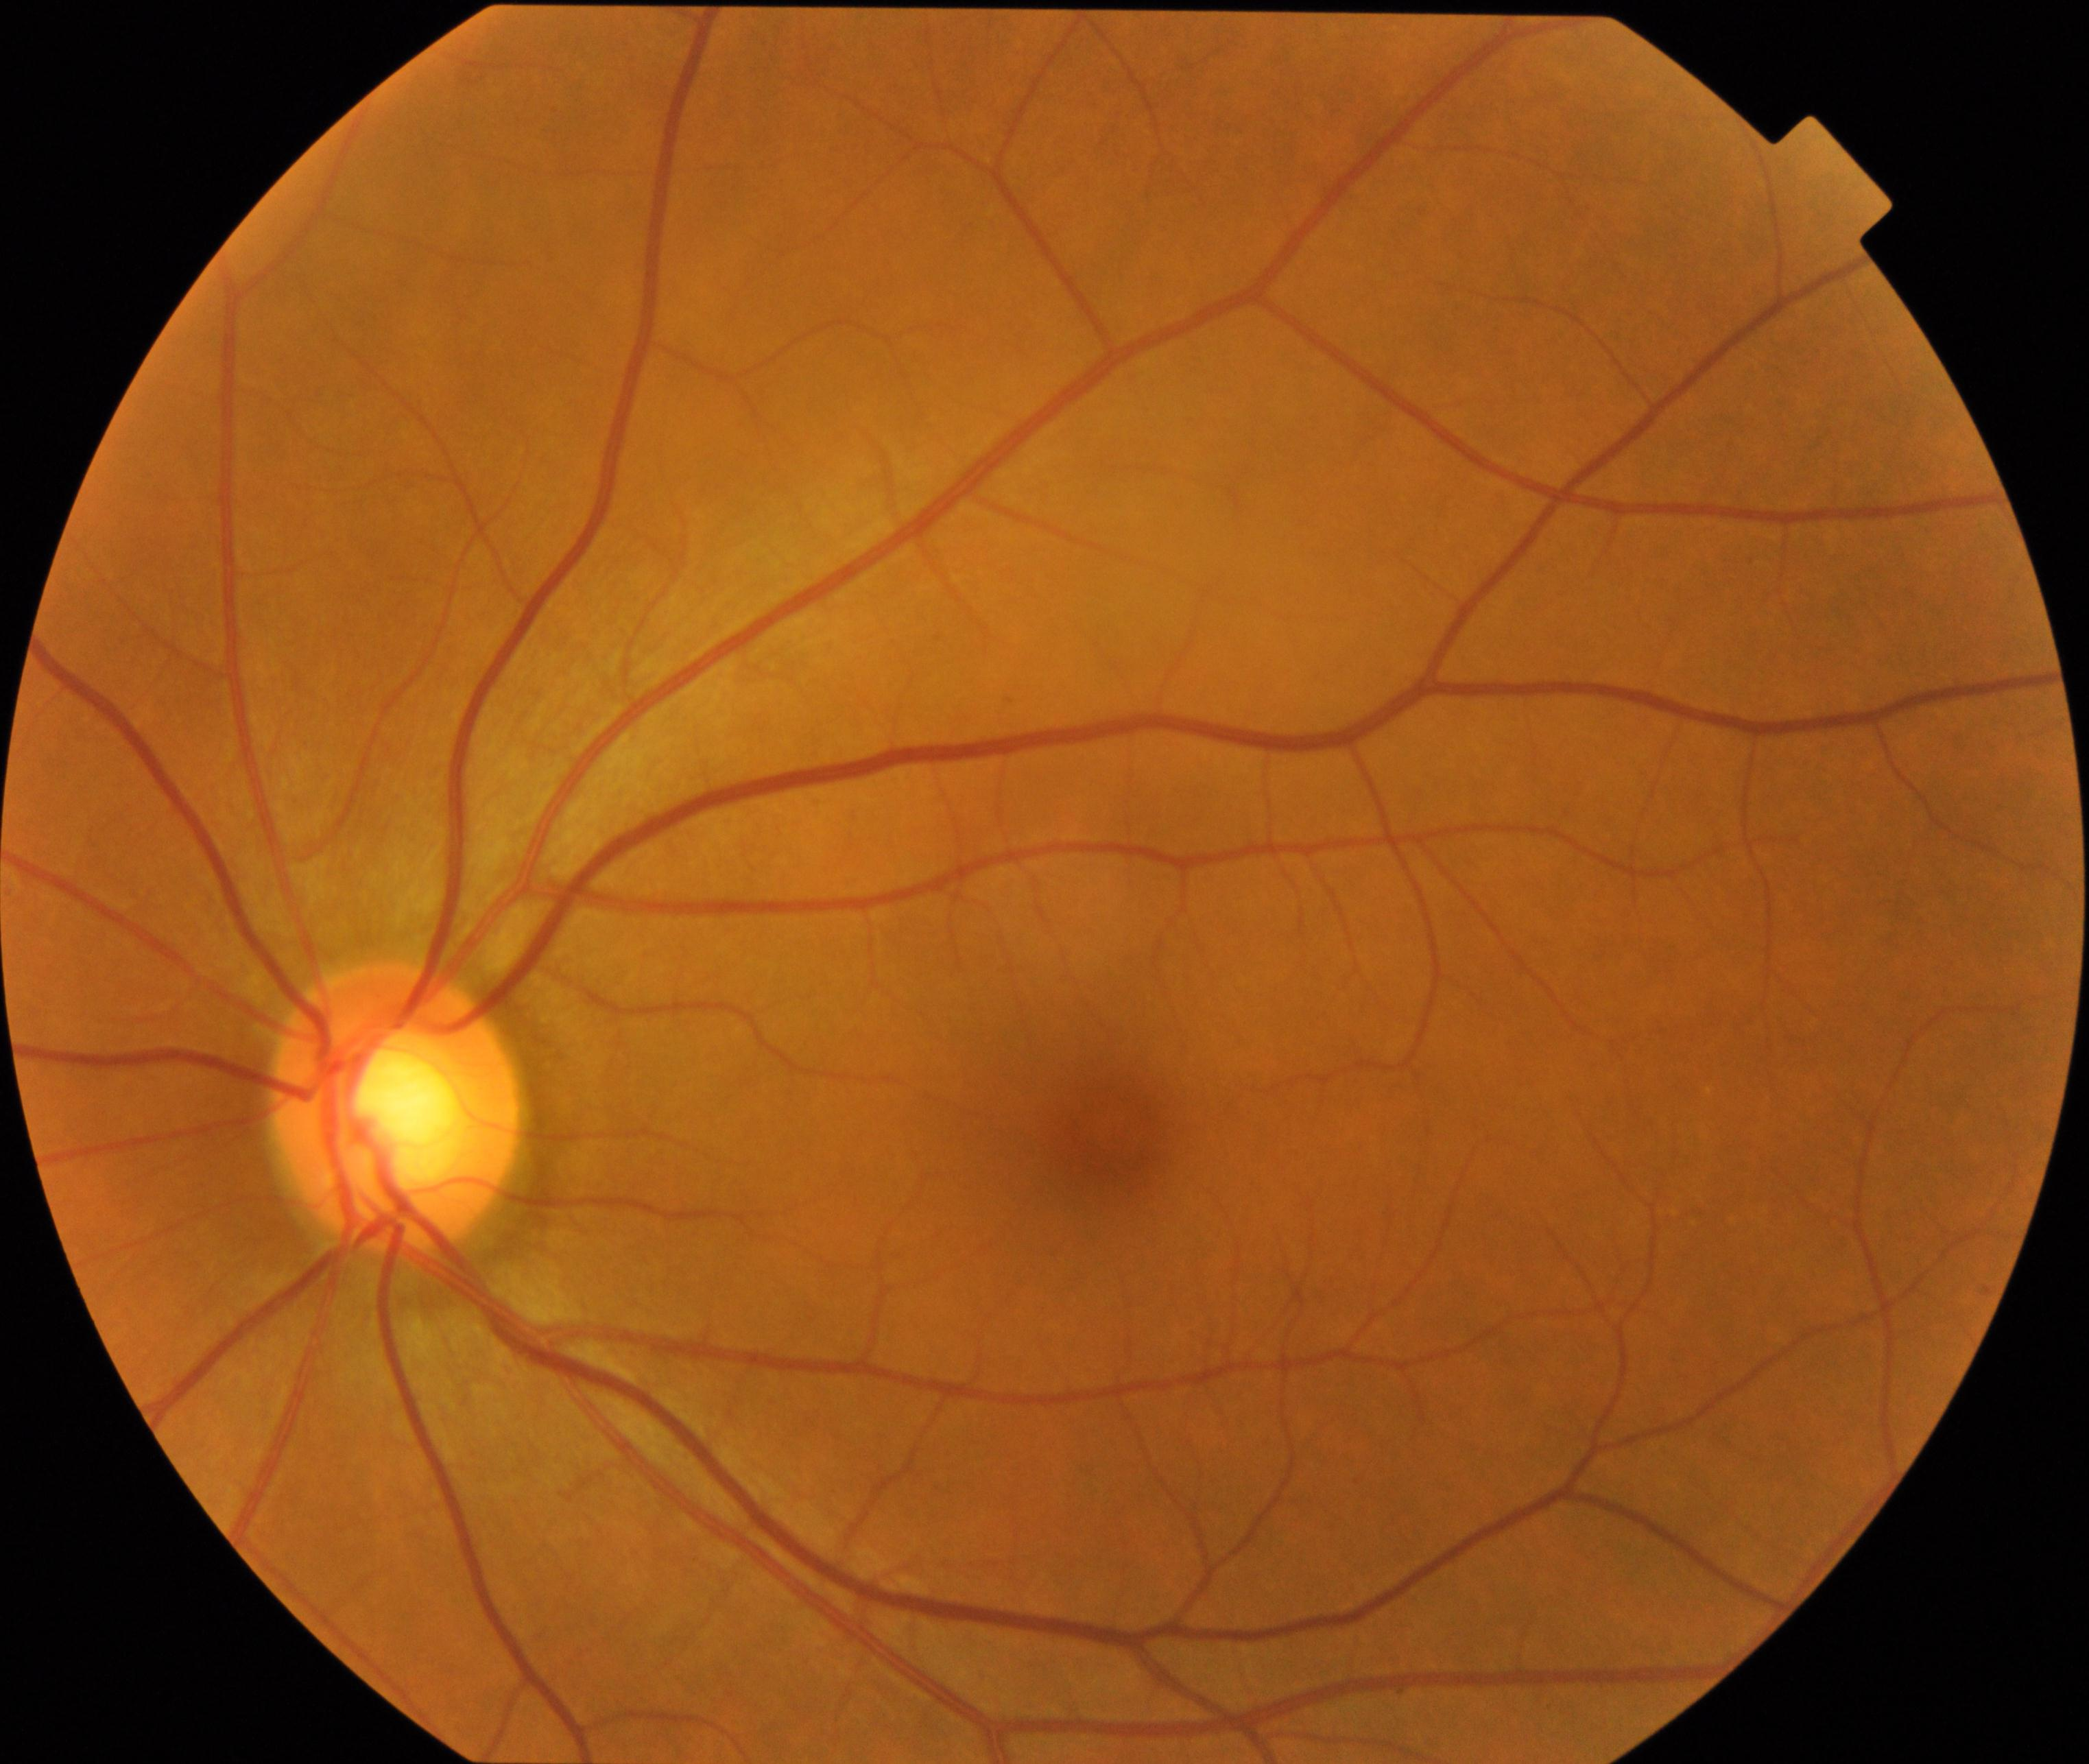Glaucoma section-1: (367, 1060, 458, 1179)
Glaucoma section-2: (268, 959, 534, 1258)
